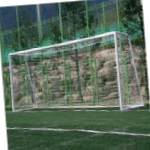goals: (8, 29, 145, 115)
